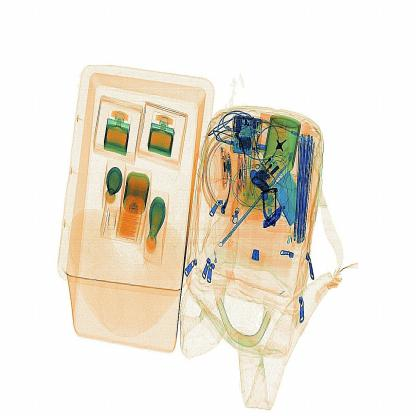knife: (257, 202, 297, 239)
